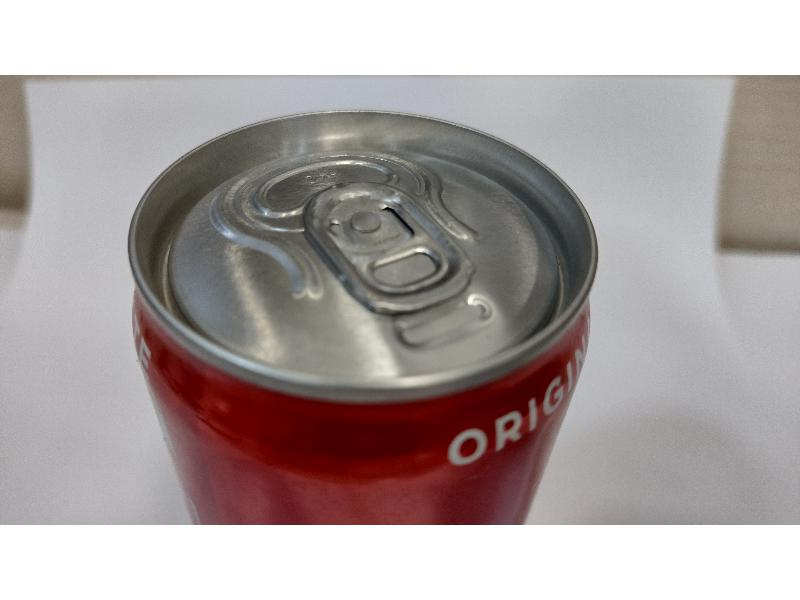can: (125, 97, 611, 517)
